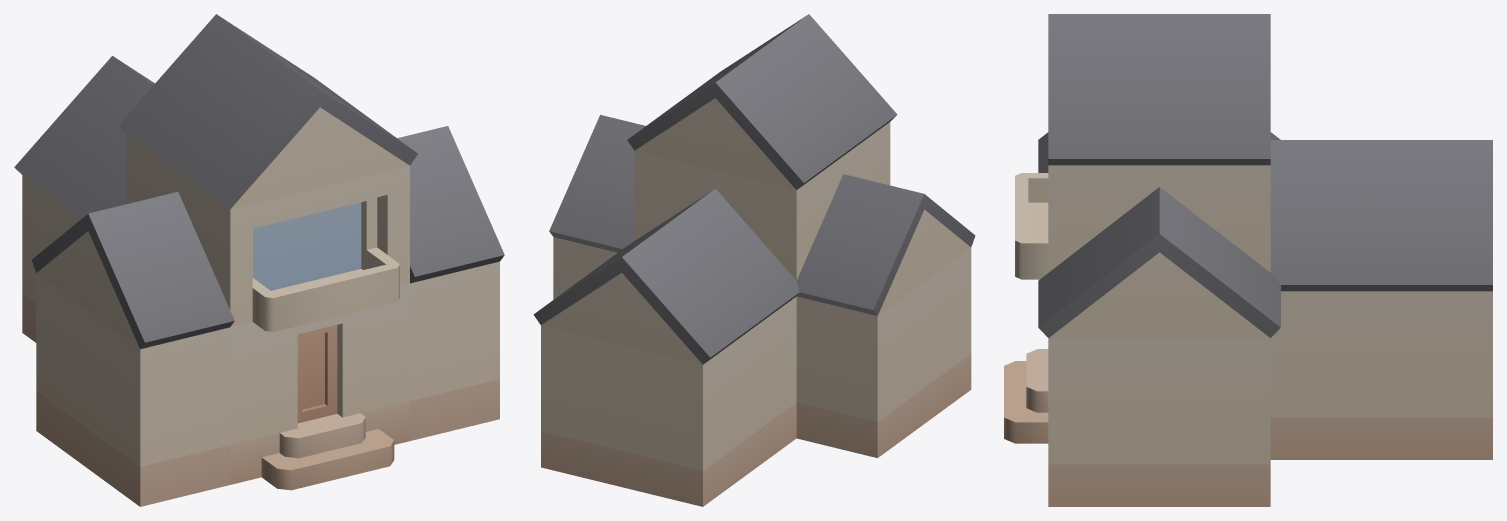
The model's file is building-sample-house-c.glb.
3 renders of one model, left to right at view 1: azimuth 30°, elevation 25°; view 2: azimuth 150°, elevation 25°; view 3: azimuth 270°, elevation 25°, orthographic. The views are drawn at different scales.
Parts seen in each view (by area): view 1: building-sample-house-c; view 2: building-sample-house-c; view 3: building-sample-house-c.
Part boxes in pixels (box(x1,y1,x2,y2)): building-sample-house-c: box(14, 14, 504, 506); building-sample-house-c: box(533, 14, 975, 506); building-sample-house-c: box(1004, 14, 1492, 506).
Size of the model in its own units: 2 by 1.98 by 2.2.
